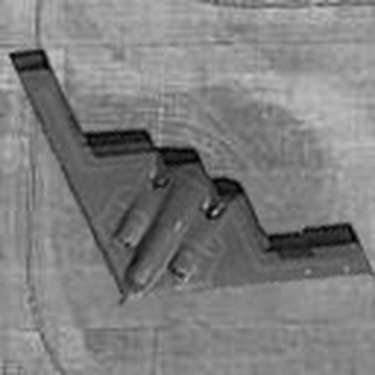airplane: (8, 43, 372, 313)
